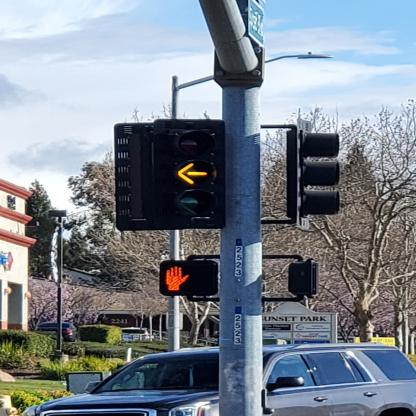left-yellow: (157, 119, 225, 228)
